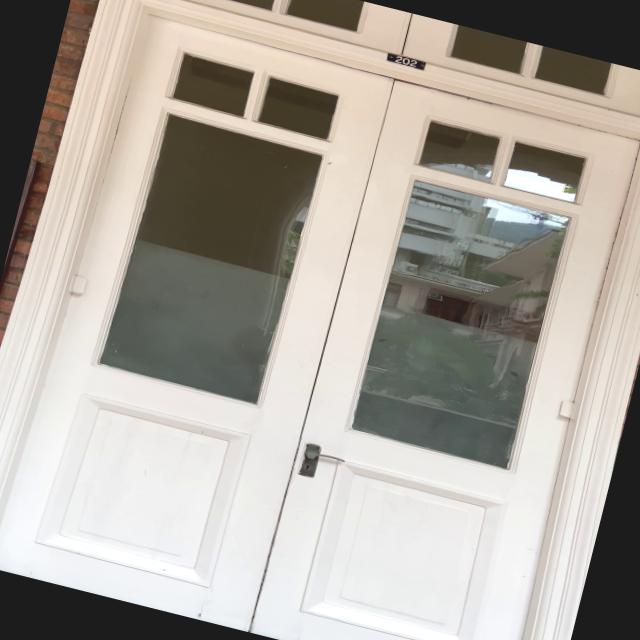room202: (380, 46, 434, 75)
